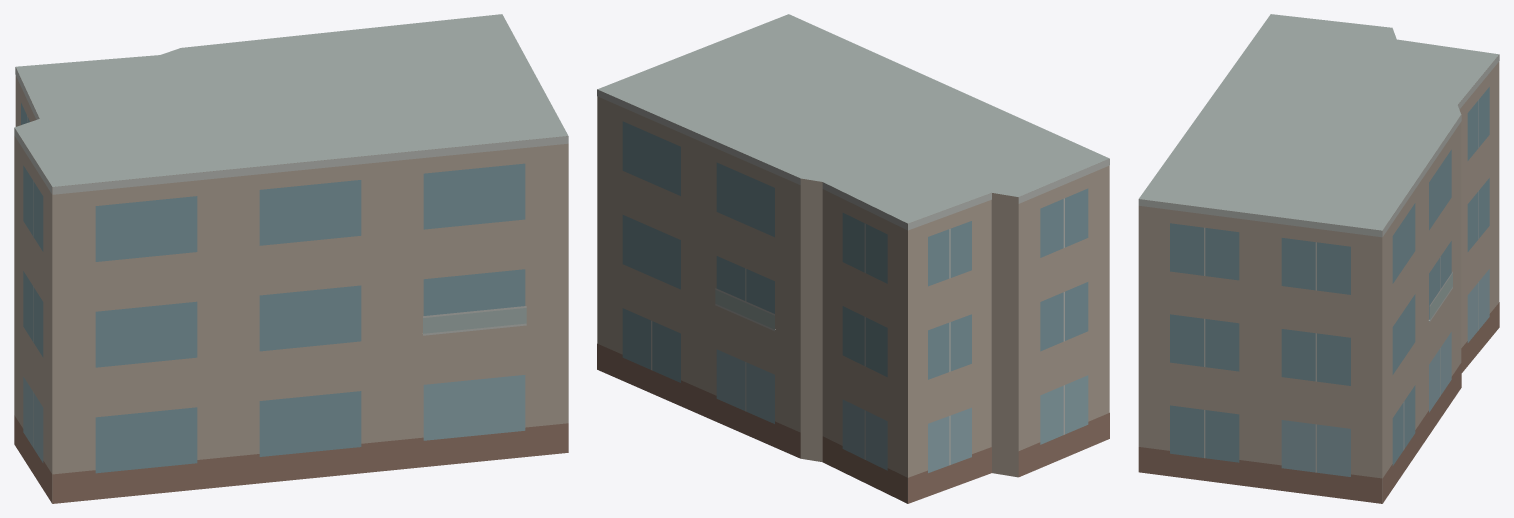
Rendered from survey-upis-32675180.glb.
3 views of the same model, side by side, from view 1: azimuth 30°, elevation 25°; view 2: azimuth 150°, elevation 25°; view 3: azimuth 270°, elevation 25° (orthographic). The views are drawn at different scales.
Visible parts, largest first — view 1: survey-upis-32675180.tmp; view 2: survey-upis-32675180.tmp; view 3: survey-upis-32675180.tmp.
Boxes of the visible parts, bbox=[...] form: survey-upis-32675180.tmp: bbox=[14, 14, 568, 503]; survey-upis-32675180.tmp: bbox=[597, 14, 1109, 503]; survey-upis-32675180.tmp: bbox=[1138, 14, 1499, 503].
Size of the model in its own units: 16.84 by 9.9 by 11.86.
